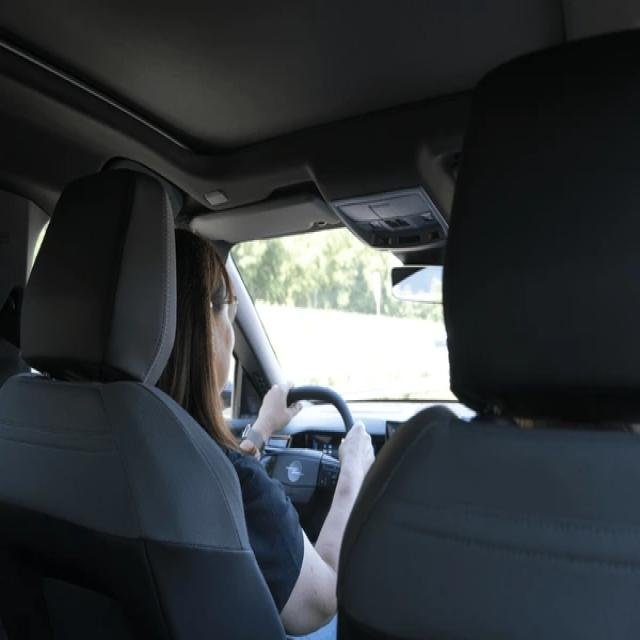opel: (282, 458, 307, 490)
